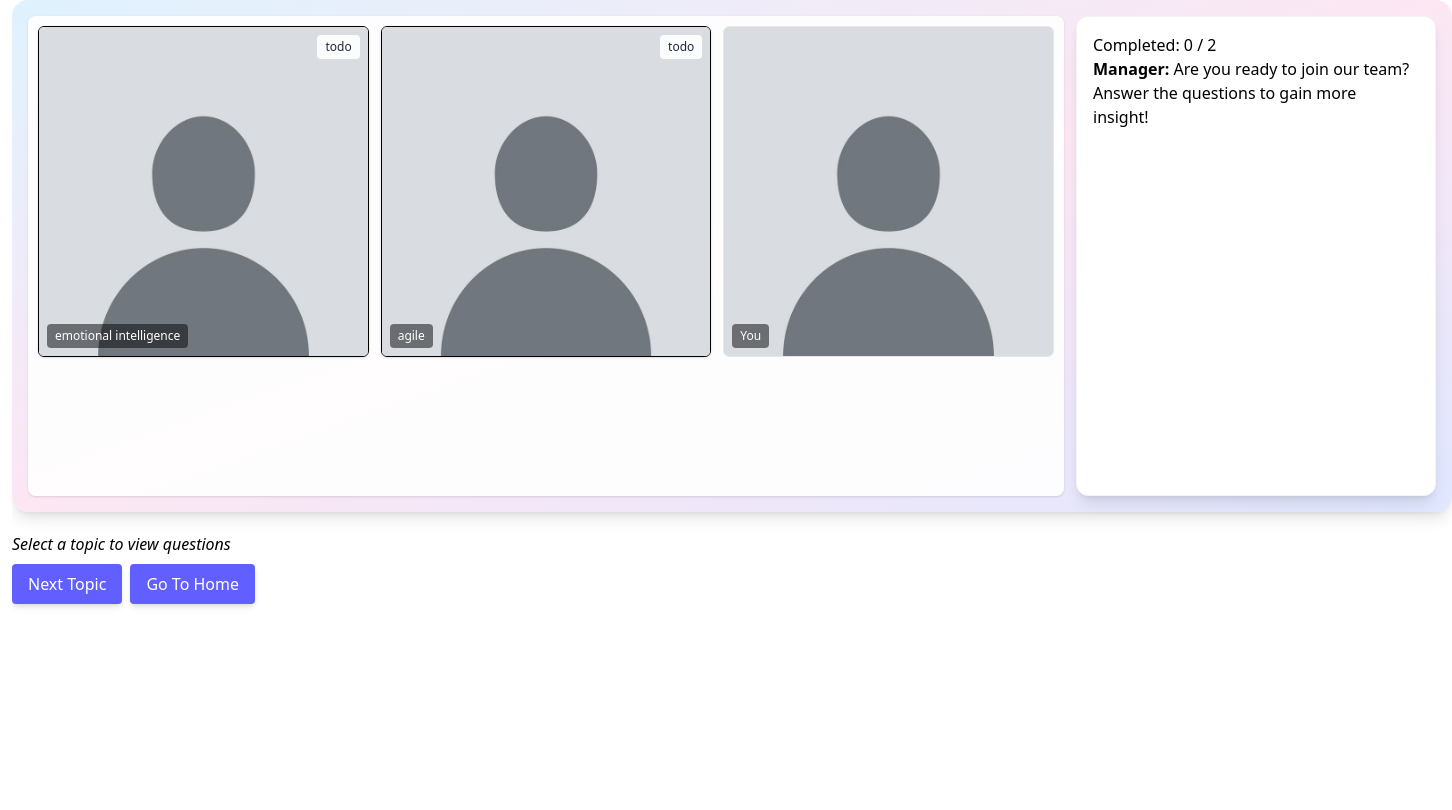
Scenario: QuizTopicSelector › should display questions when card clicked
Click the button with test id "topic-card-emotional_intelligence" at (203, 191), box [38,26,369,357]
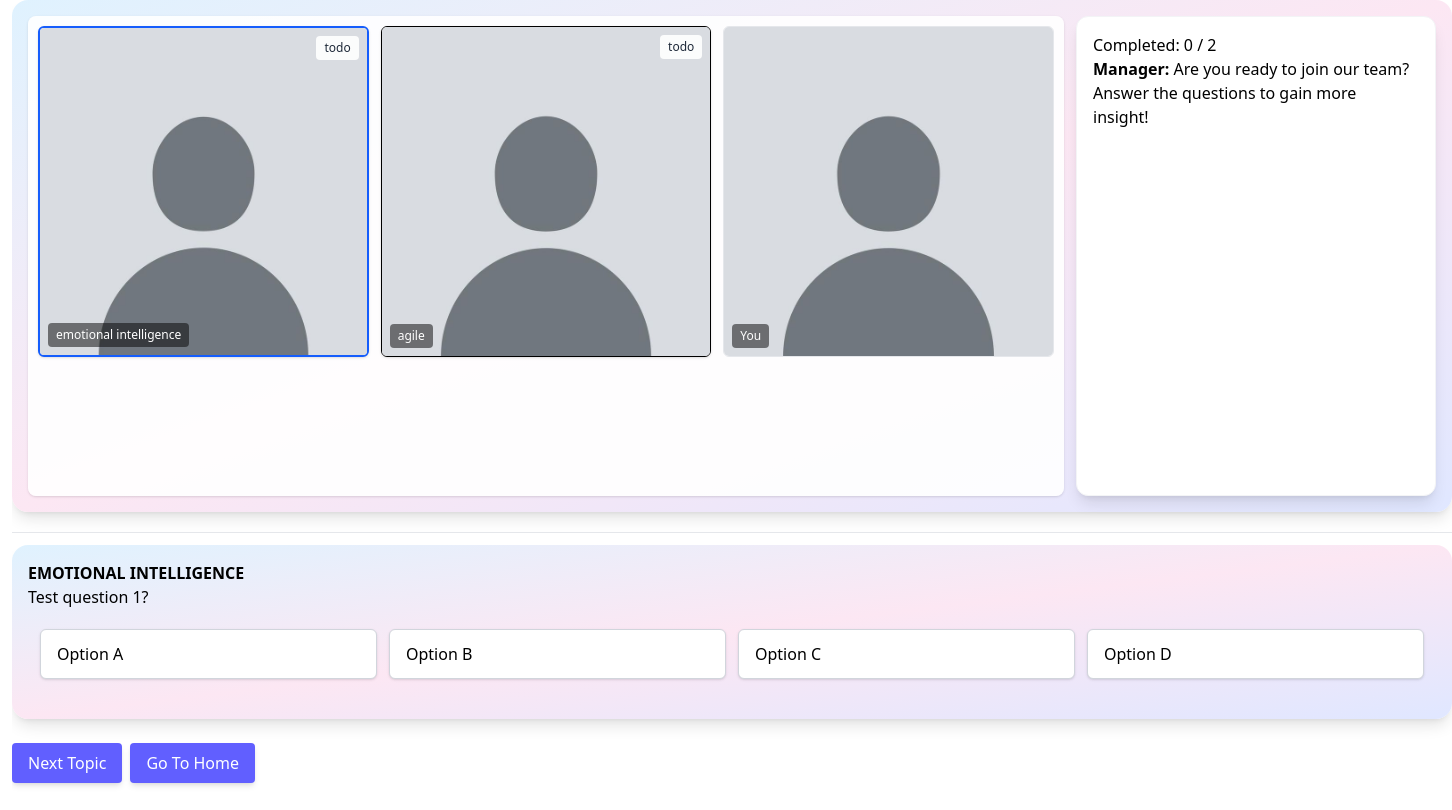
expect the text "Test question 1?" is shown: met, box [28,586,148,608]
